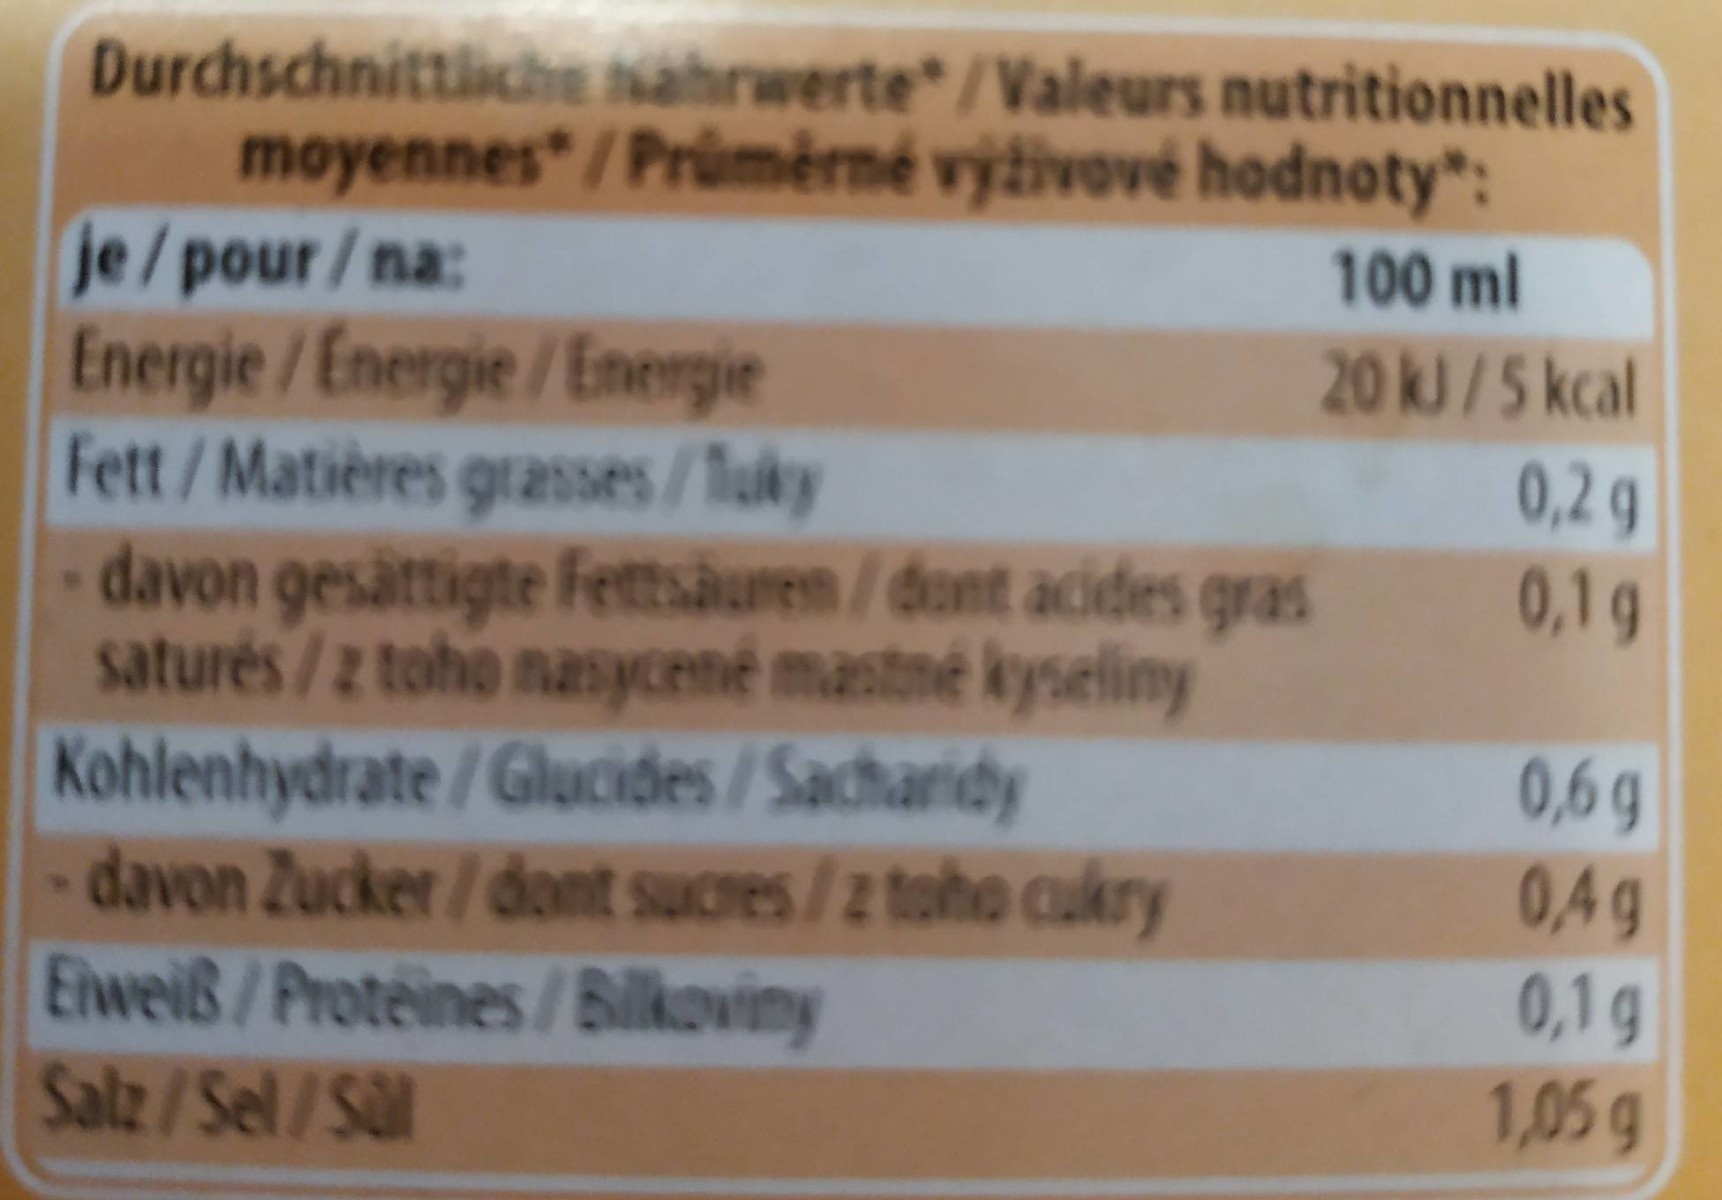table: (25, 7, 1674, 1184)
